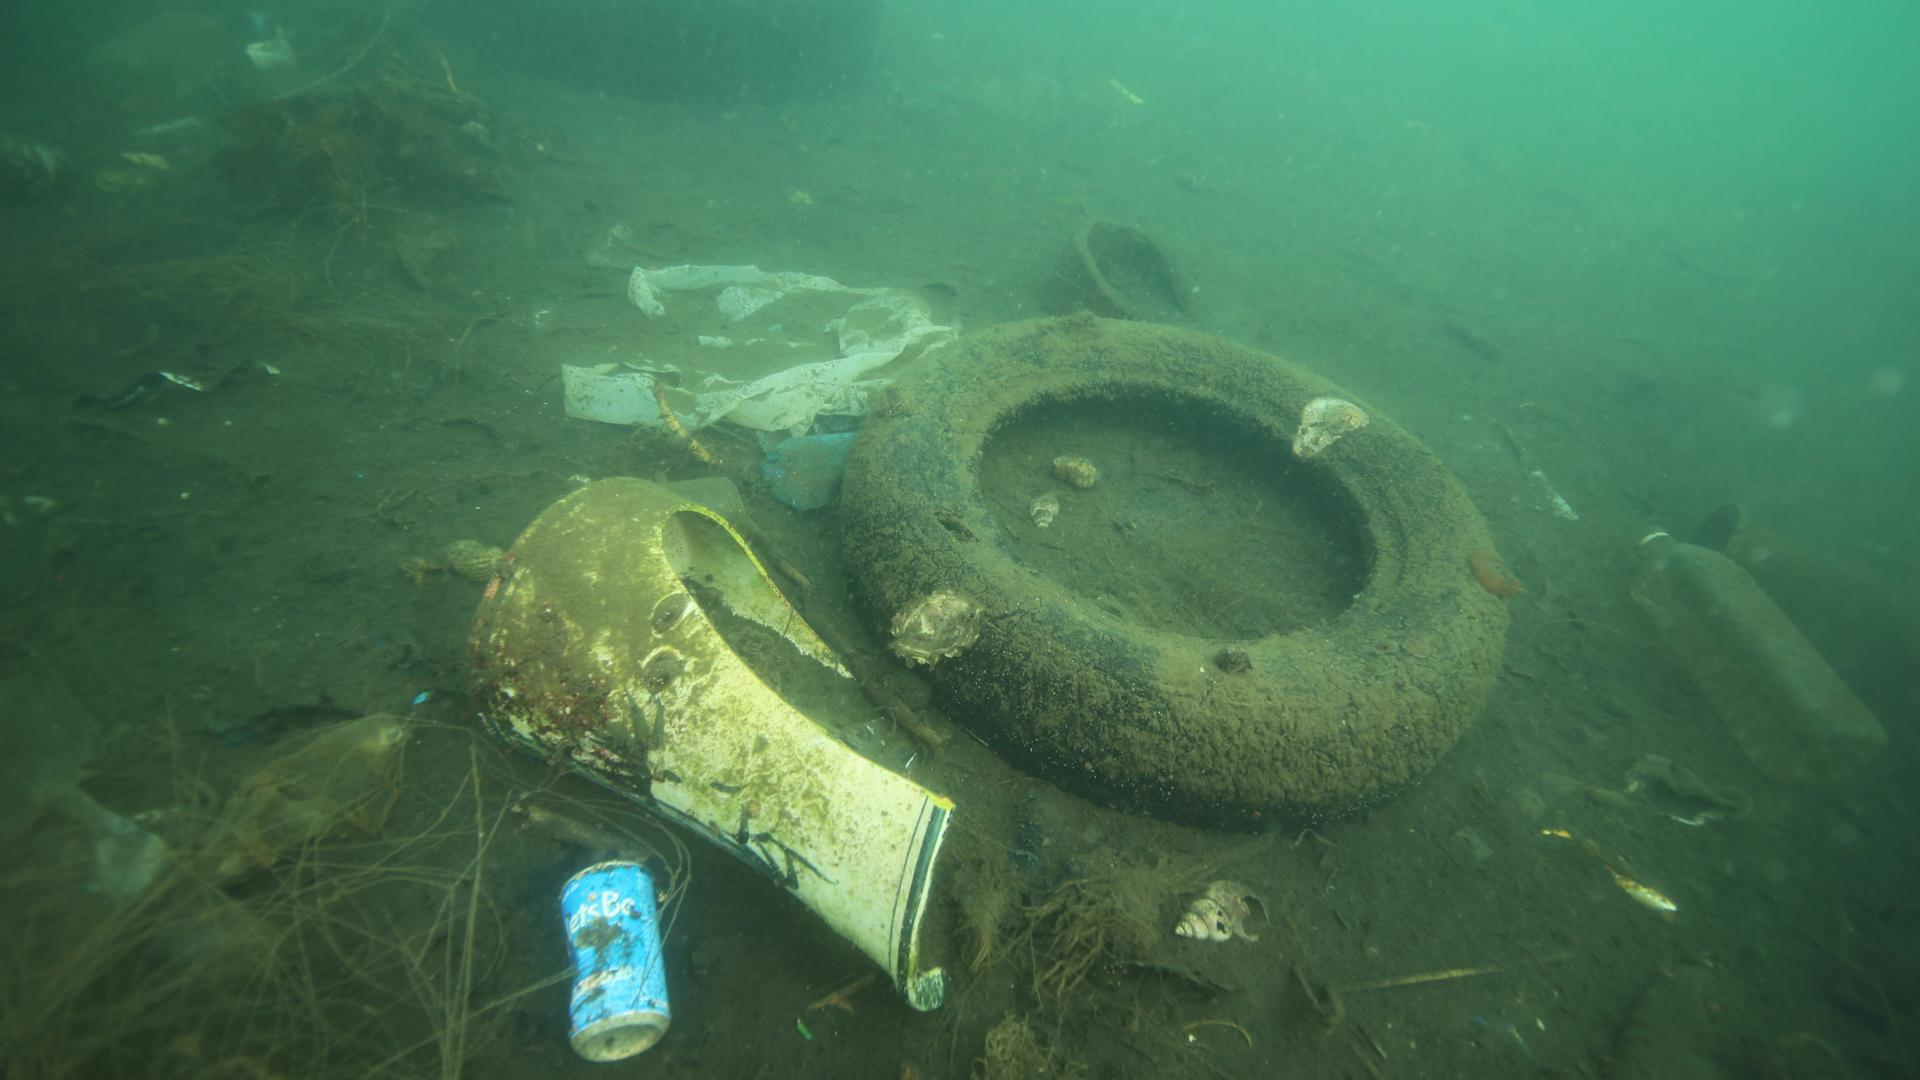tire: (833, 307, 1515, 825)
